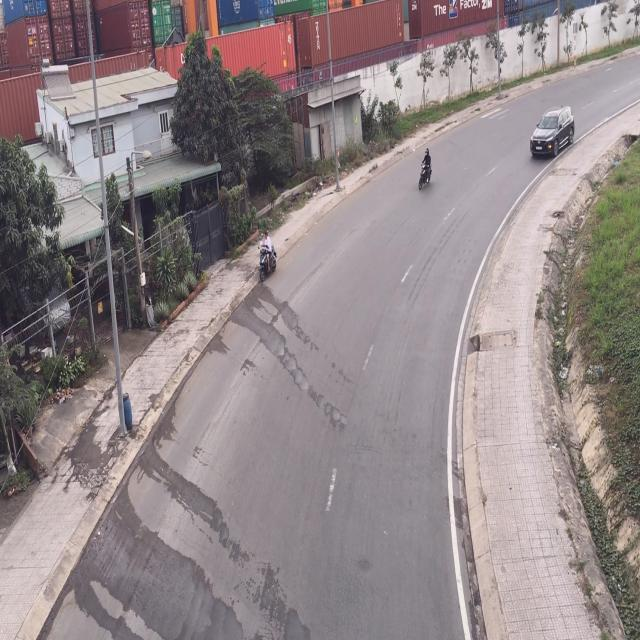car: (532, 107, 577, 161)
motorbike: (260, 232, 279, 282), (416, 146, 433, 196)
